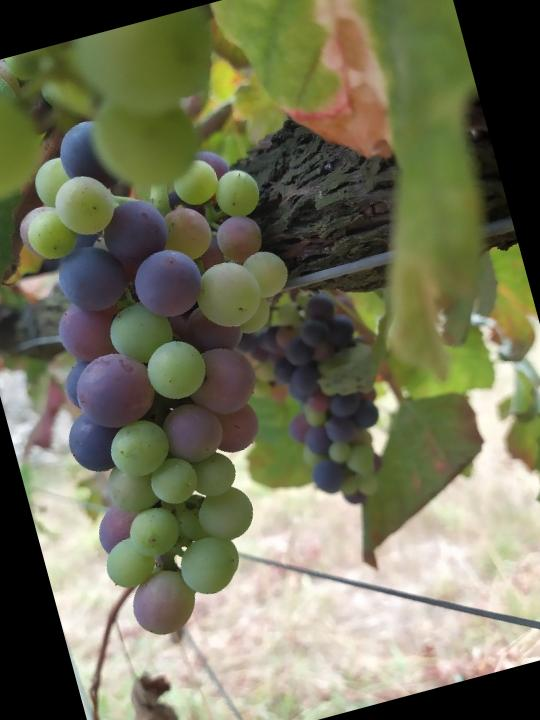grape: (0, 75, 375, 648)
